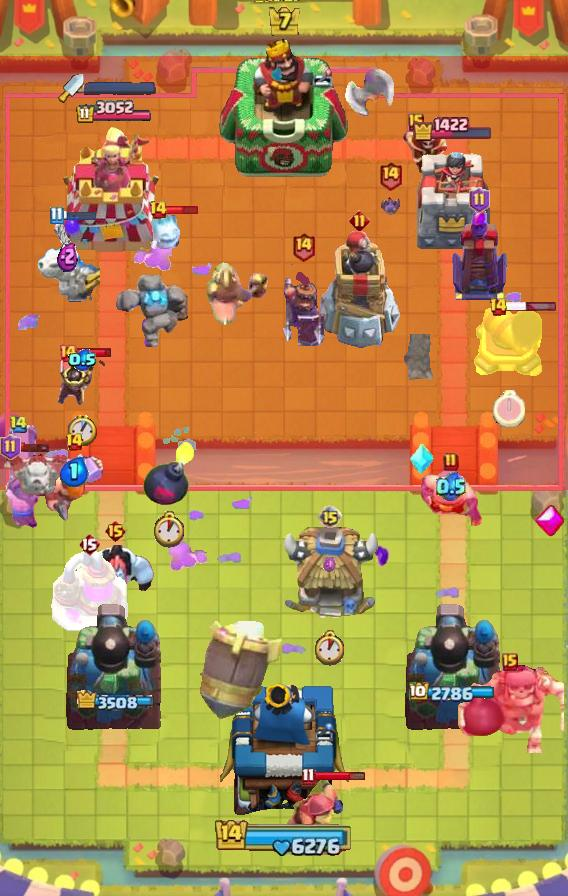baby-dragon: (142, 439, 196, 507)
bar: (55, 126, 173, 256)
barbarian-barrel: (377, 190, 403, 220)
bat: (146, 210, 190, 256)
battle-healer: (0, 425, 46, 529)
bomber-evolution: (54, 352, 110, 408)
clock: (214, 817, 354, 857)
electro-giant: (456, 659, 563, 752)
electro-spirit: (436, 472, 466, 502), (60, 457, 89, 487), (57, 240, 78, 271), (67, 349, 96, 371), (323, 555, 337, 572)
elixir: (153, 511, 188, 549), (313, 630, 347, 666), (493, 389, 525, 427), (67, 414, 96, 446)
elixir-golem-big: (279, 264, 327, 354)
emote: (314, 770, 367, 781), (505, 301, 557, 312), (15, 441, 51, 453), (165, 204, 200, 216), (75, 346, 113, 357), (61, 210, 97, 221)
fireball: (285, 777, 347, 861)
fisherman: (401, 334, 439, 380)
freeze: (207, 262, 269, 326)
ice-spirit-evolution-symbol: (448, 206, 510, 302)
king-tower: (219, 678, 349, 826), (218, 37, 350, 181)
king-tower-bar: (84, 81, 156, 95)
lumberjack: (399, 120, 451, 174)
mighty-miner: (42, 454, 106, 524)
mini-pekka: (34, 220, 100, 304), (0, 447, 76, 499)
monk: (419, 470, 483, 530)
pad_2: (409, 443, 435, 475)
pekka: (50, 551, 128, 633)
prince: (279, 527, 381, 623)
queen-tower: (410, 144, 496, 255)
rage: (75, 545, 155, 599)
royal-giant: (341, 69, 395, 129)
royal-recruit: (473, 307, 545, 381)
selected: (412, 116, 494, 142), (75, 99, 153, 125), (409, 682, 497, 704), (74, 690, 154, 712)
skeleton-king-skill: (533, 504, 565, 538)
text: (378, 161, 403, 192), (291, 231, 316, 262), (318, 505, 342, 529), (104, 519, 127, 543), (469, 187, 490, 213), (78, 532, 100, 556), (0, 434, 20, 460), (350, 210, 371, 231), (148, 200, 168, 220), (58, 343, 78, 363), (489, 297, 508, 317), (8, 414, 28, 433), (65, 432, 84, 452), (443, 452, 459, 472), (408, 113, 424, 131), (502, 653, 518, 671), (49, 206, 64, 225), (300, 766, 315, 785)
tower-bar: (64, 601, 164, 731), (403, 601, 503, 731)
valkyrie-evolution: (112, 275, 188, 353)
x-bow: (197, 621, 282, 720)
zappy: (318, 228, 403, 352)
